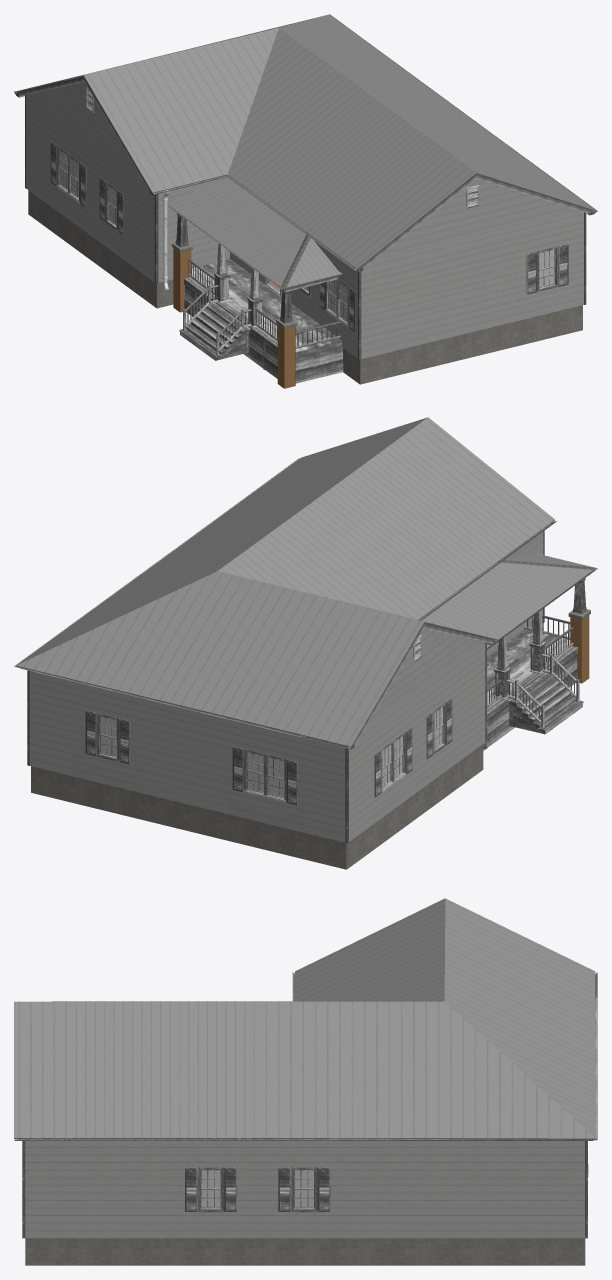
Rendered from SM_House_09.fbx.
3 views of the same model, one above another, from view 1: azimuth 30°, elevation 25°; view 2: azimuth 150°, elevation 25°; view 3: azimuth 270°, elevation 25° (orthographic). The views are drawn at different scales.
Visible parts, largest first — view 1: SM_House_09; view 2: SM_House_09; view 3: SM_House_09.
Boxes of the visible parts, x1,y1,x2,y2 form: SM_House_09: [14, 14, 597, 388]; SM_House_09: [14, 417, 597, 869]; SM_House_09: [14, 898, 597, 1265].
Bounding box in the file's own units: 1225 × 1752 × 680.
22 materials, 21 textured.
